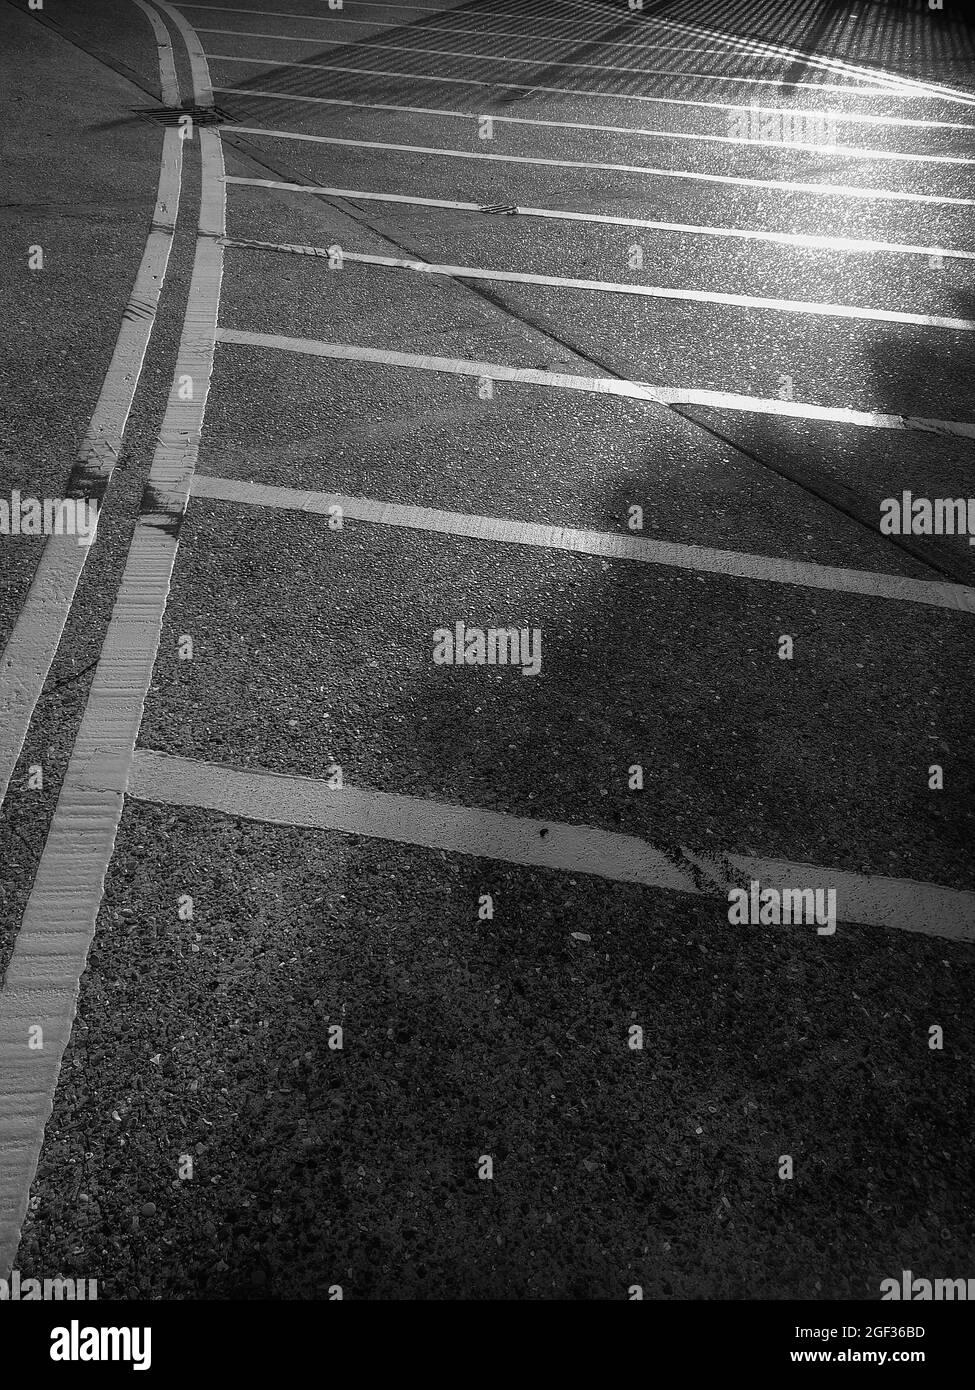faded_road_lines: (95, 204, 432, 334), (518, 812, 857, 936), (36, 443, 209, 579), (868, 395, 975, 453), (468, 166, 551, 233)
